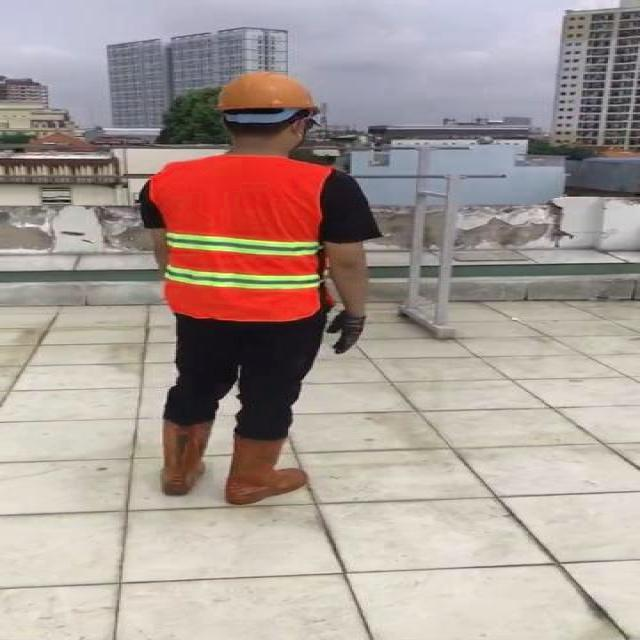boots: (224, 435, 308, 507), (156, 419, 210, 499)
hand_glove: (325, 316, 368, 353)
head_helmet: (216, 71, 328, 114)
person: (133, 59, 391, 506)
vest: (149, 155, 336, 321)
